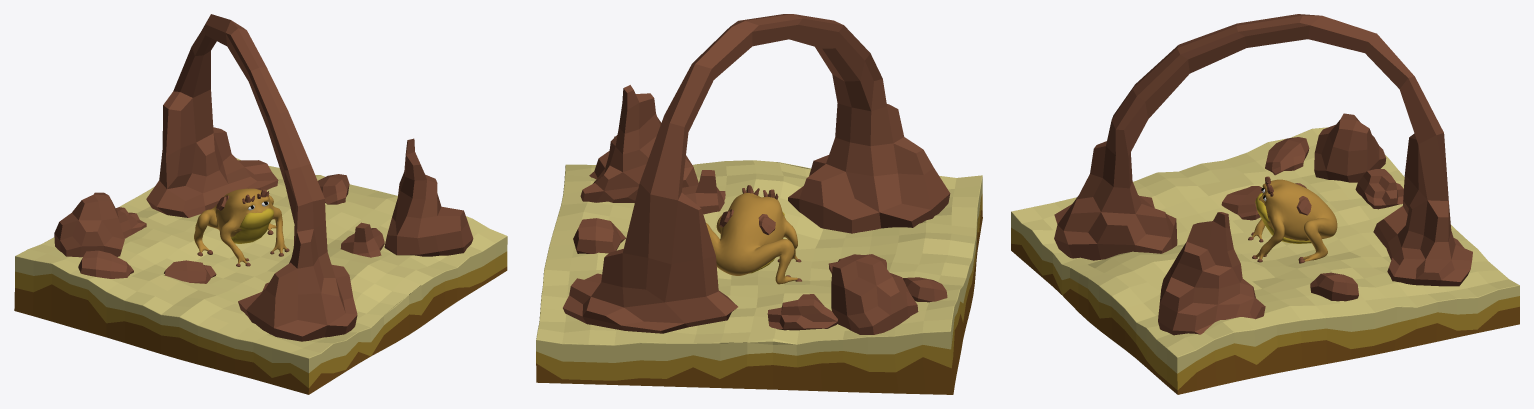
Rendered from Frock.fbx.
3 renders of one model, left to right at view 1: azimuth 30°, elevation 25°; view 2: azimuth 150°, elevation 25°; view 3: azimuth 270°, elevation 25°, orthographic. The views are drawn at different scales.
Parts seen in each view (by area): view 1: Seafloor, Cube.004, Cube.002, Icosphere.001, Cube, Cube.007, Cube.005, Cube.006, Cube.003, Cube.001; view 2: Seafloor, Cube.004, Icosphere.001, Cube.002, Cube, Cube.001, Cube.003, Cube.005, Cube.007; view 3: Seafloor, Cube.004, Cube.002, Icosphere.001, Cube, Cube.001, Cube.007, Cube.003, Cube.006.
Part boxes in pixels (x1,y1,x2,y2): Seafloor: (14,158,507,394); Cube.004: (146,14,357,341); Cube.002: (384,138,473,256); Icosphere.001: (194,188,289,266); Cube: (54,192,124,257); Cube.007: (78,250,133,278); Cube.005: (340,222,384,257); Cube.006: (164,260,216,283); Cube.003: (318,174,349,204); Cube.001: (116,207,146,238); Seafloor: (536,160,982,394); Cube.004: (563,14,950,333); Icosphere.001: (706,185,801,284); Cube.002: (580,85,698,202); Cube: (831,254,918,334); Cube.001: (767,294,837,330); Cube.003: (573,218,626,253); Cube.005: (682,170,725,214); Cube.007: (903,277,947,302); Seafloor: (1011,127,1519,394); Cube.004: (1054,14,1472,286); Cube.002: (1158,212,1265,335); Icosphere.001: (1248,176,1337,263); Cube: (1314,113,1386,182); Cube.001: (1355,169,1403,209); Cube.007: (1265,137,1309,175); Cube.003: (1310,272,1358,301); Cube.006: (1221,186,1262,220).
Size of the model in its own units: 1069 by 627 by 1070.
